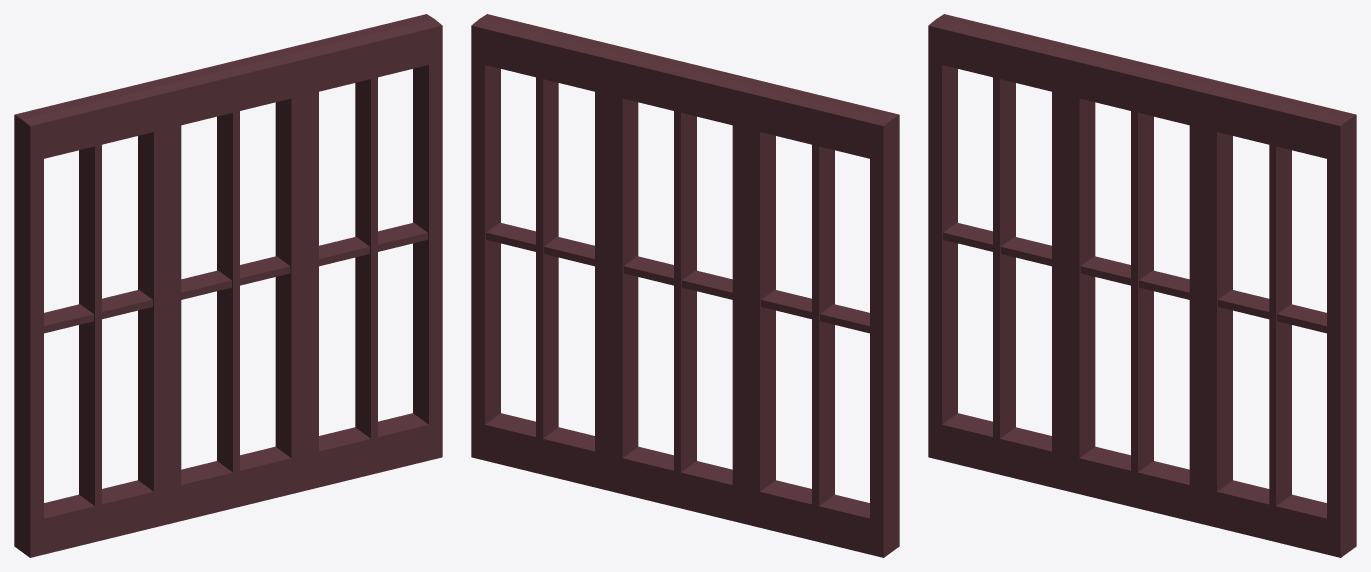
The model's file is buildings-house-wall-construction-3x3m.glb.
3 renders of one model, left to right at view 1: azimuth 30°, elevation 25°; view 2: azimuth 150°, elevation 25°; view 3: azimuth 330°, elevation 25°, orthographic.
Visible parts, largest first — view 1: house-wall-construction-3x3m; view 2: house-wall-construction-3x3m; view 3: house-wall-construction-3x3m.
Part boxes in pixels (x1,y1,x2,y2): house-wall-construction-3x3m: (14, 14, 442, 557); house-wall-construction-3x3m: (471, 14, 899, 557); house-wall-construction-3x3m: (928, 14, 1356, 557).
Bounding box in the file's own units: 3 × 3.01 × 0.2.
